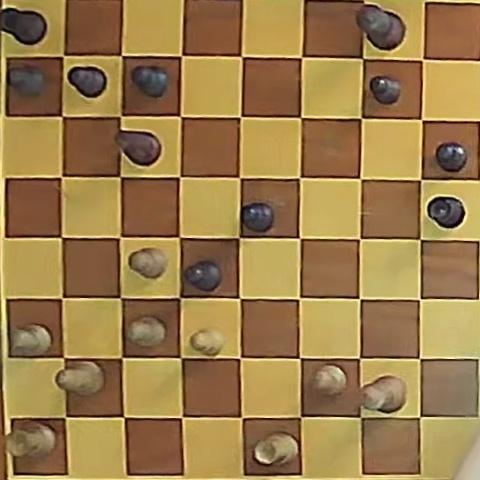black-king: (357, 4, 405, 50)
black-knight: (115, 130, 160, 166)
black-pawn: (131, 65, 168, 98), (68, 66, 106, 98), (8, 66, 46, 97), (184, 261, 221, 291), (435, 142, 467, 172), (242, 203, 275, 232), (370, 76, 401, 104)
black-rook: (0, 7, 47, 46), (426, 196, 464, 229)
white-bishop: (57, 361, 104, 395)
white-king: (362, 375, 406, 413)
white-pawn: (11, 324, 52, 355), (126, 315, 166, 346), (129, 248, 168, 279), (314, 365, 347, 395), (190, 329, 225, 356)
white-rook: (6, 421, 57, 458), (253, 432, 297, 465)
